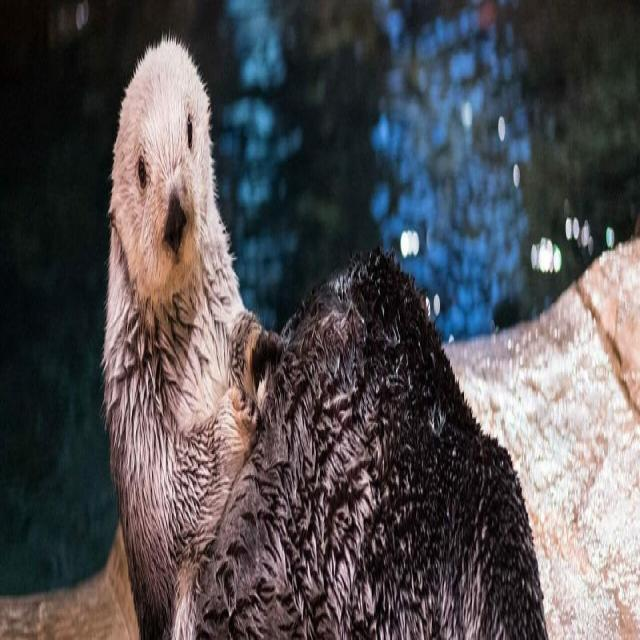Otter: (113, 28, 523, 640)
